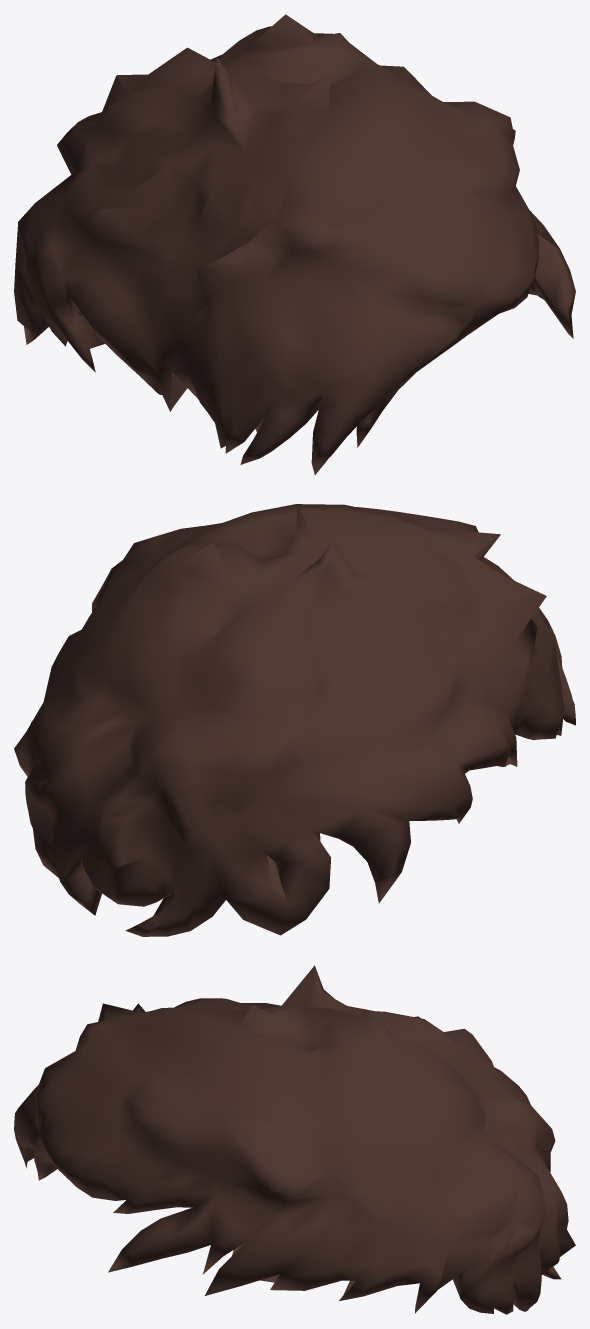
The model's file is man-hair-2.glb.
3 renders of one model, top to bottom at view 1: azimuth 30°, elevation 25°; view 2: azimuth 150°, elevation 25°; view 3: azimuth 270°, elevation 25°, orthographic. The views are drawn at different scales.
Parts seen in each view (by area): view 1: 4; view 2: 4; view 3: 4.
Part boxes in pixels (box(x1,y1,x2,y2)): 4: box(14, 14, 575, 474); 4: box(14, 504, 575, 936); 4: box(14, 965, 575, 1314).
Bounding box in the file's own units: 0.1756 × 0.1297 × 0.2269.
Materials: 1 (1 with a texture image).
